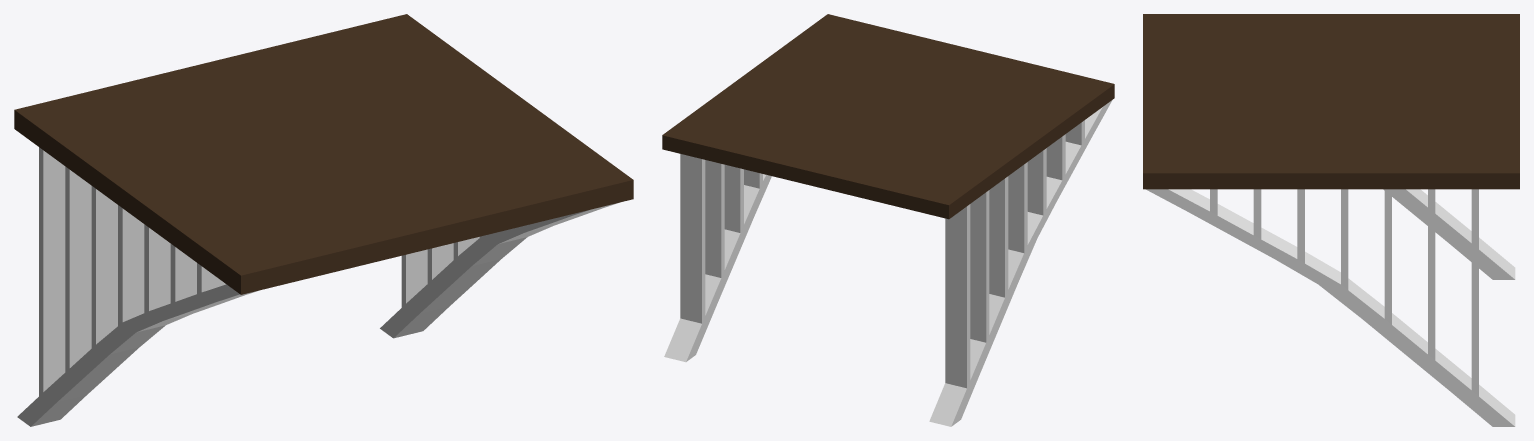
Rendered from HangingFloor.fbx.
The picture shows the model from 3 angles, left to right: view 1: azimuth 30°, elevation 25°; view 2: azimuth 150°, elevation 25°; view 3: azimuth 270°, elevation 25°; orthographic projection. The views are drawn at different scales.
Parts seen in each view (by area): view 1: HANGING FLOOR, FRAMES; view 2: HANGING FLOOR, FRAMES; view 3: HANGING FLOOR, FRAMES.
Boxes of the visible parts, x1,y1,x2,y2 form: HANGING FLOOR: (14,14,633,294); FRAMES: (17,147,617,426); HANGING FLOOR: (662,14,1114,219); FRAMES: (664,100,1112,426); HANGING FLOOR: (1143,14,1519,189); FRAMES: (1146,189,1515,426).
Bounding box in the file's own units: 800 × 594 × 800.
